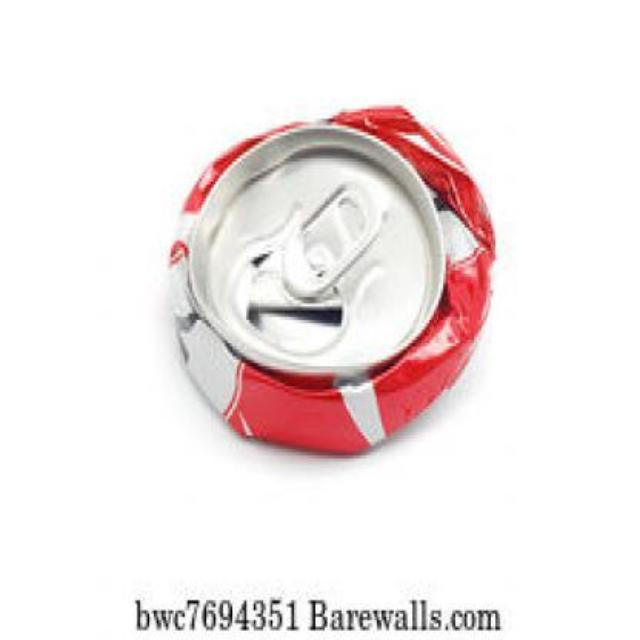metal: (168, 105, 491, 451)
